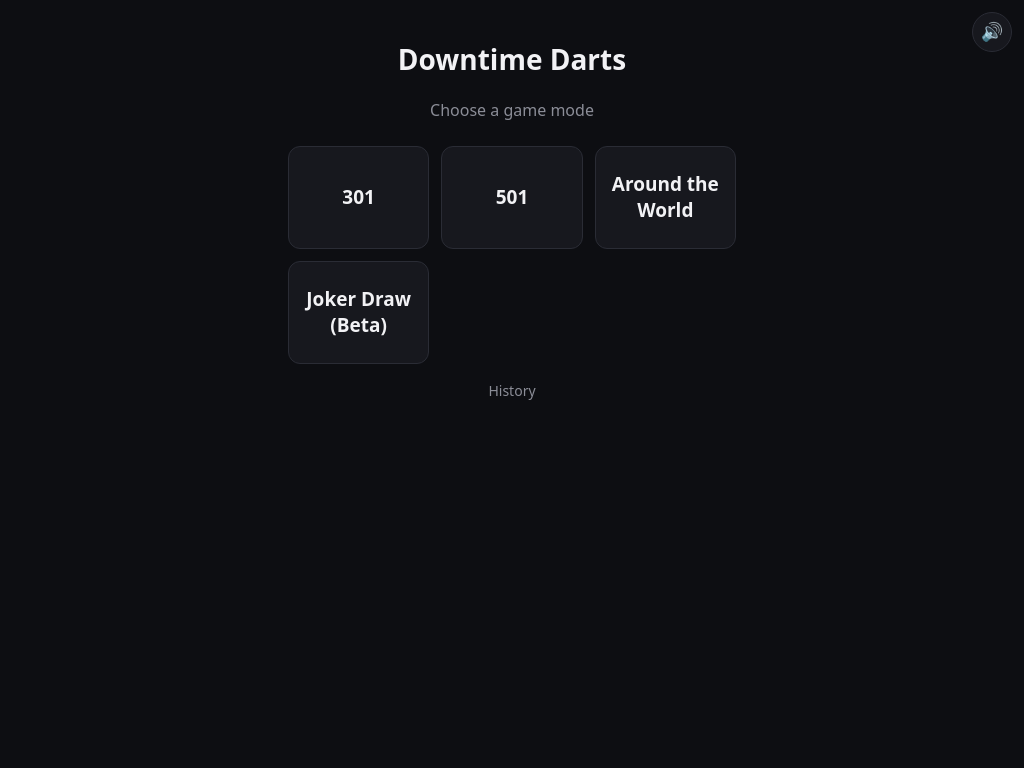
Test: mode select & player setup › lets you go back to mode select if you picked the wrong mode, keeping your players
This screenshot has width=1024, height=768.
Step 1. Click the button "501" → click(512, 197), box [441, 146, 583, 249]
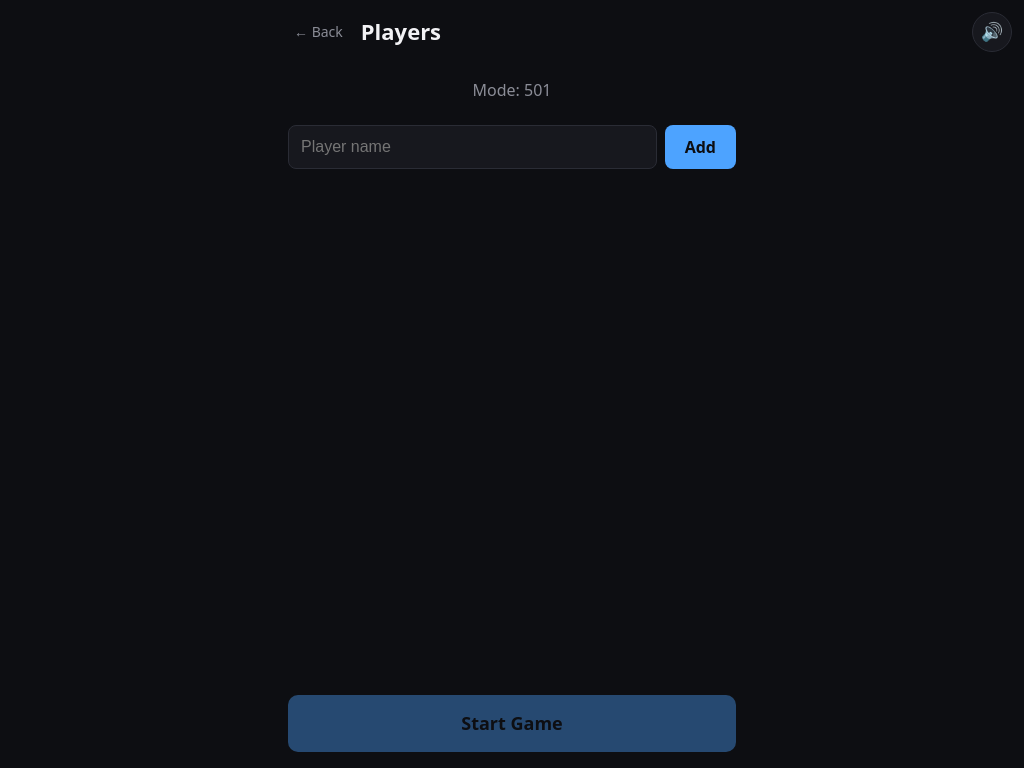
Step 2. Type "Hunter" into the field with placeholder "Player name" → (472, 147), box [288, 125, 657, 169]
Then press Enter
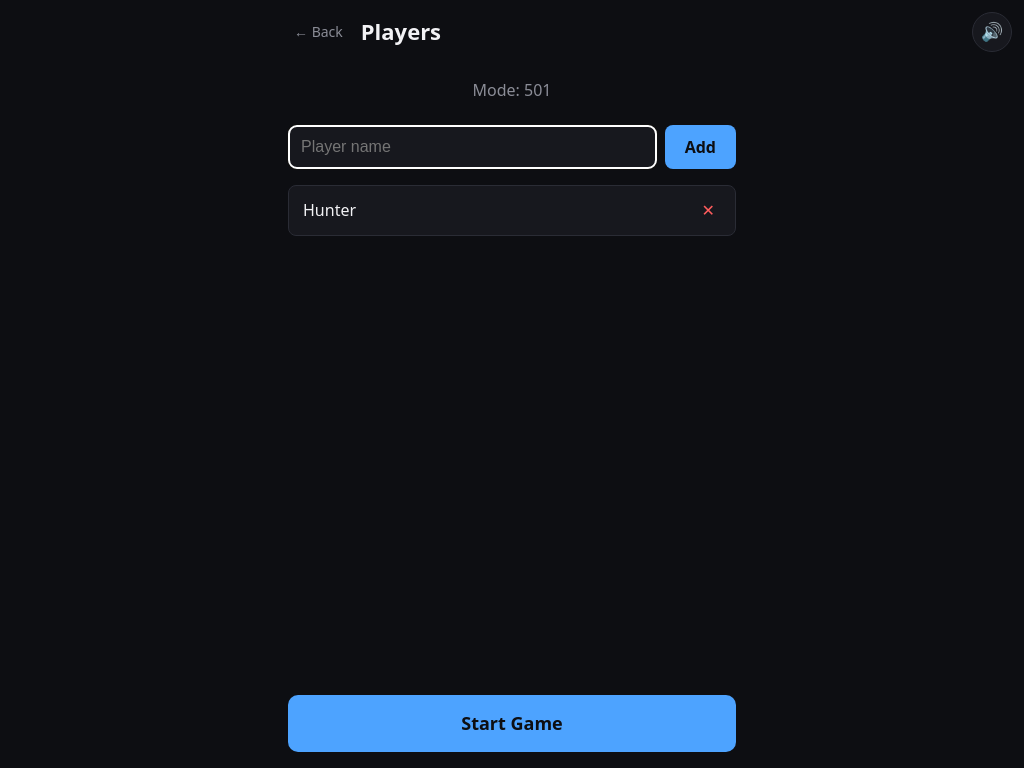
Step 3. Click the button "← Back" → click(318, 31), box [288, 21, 349, 42]
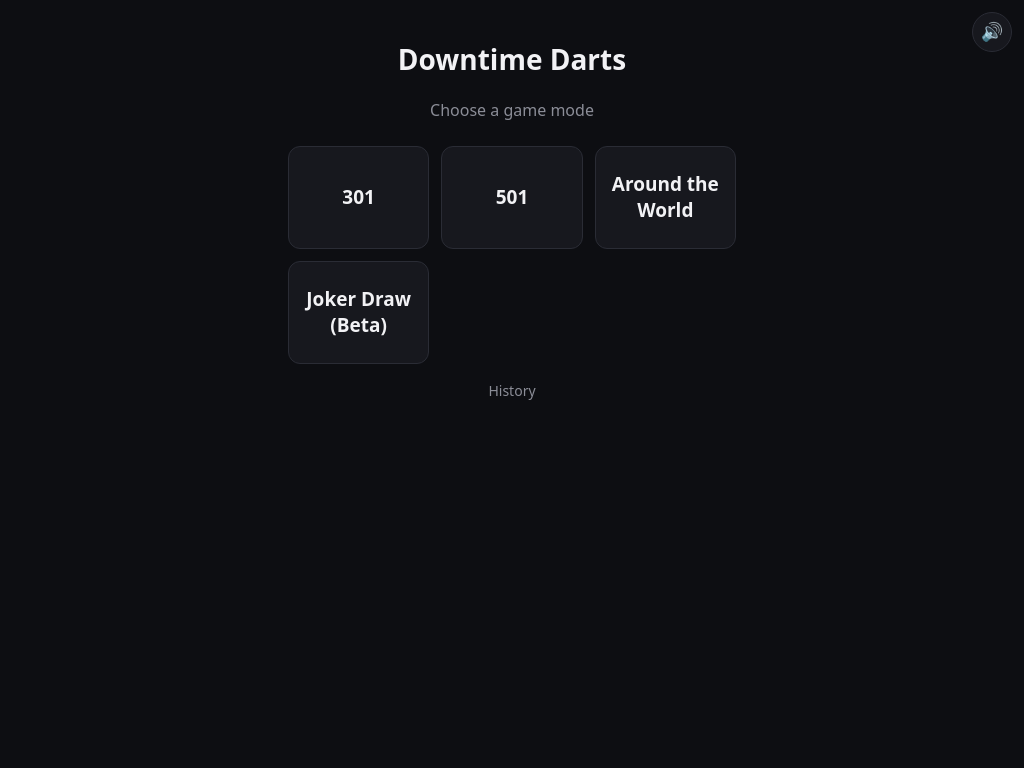
Result: the text "Choose a game mode" is shown at [430, 99, 594, 121]
Step 4. Click the button "Around the World" → click(665, 197), box [595, 146, 736, 249]
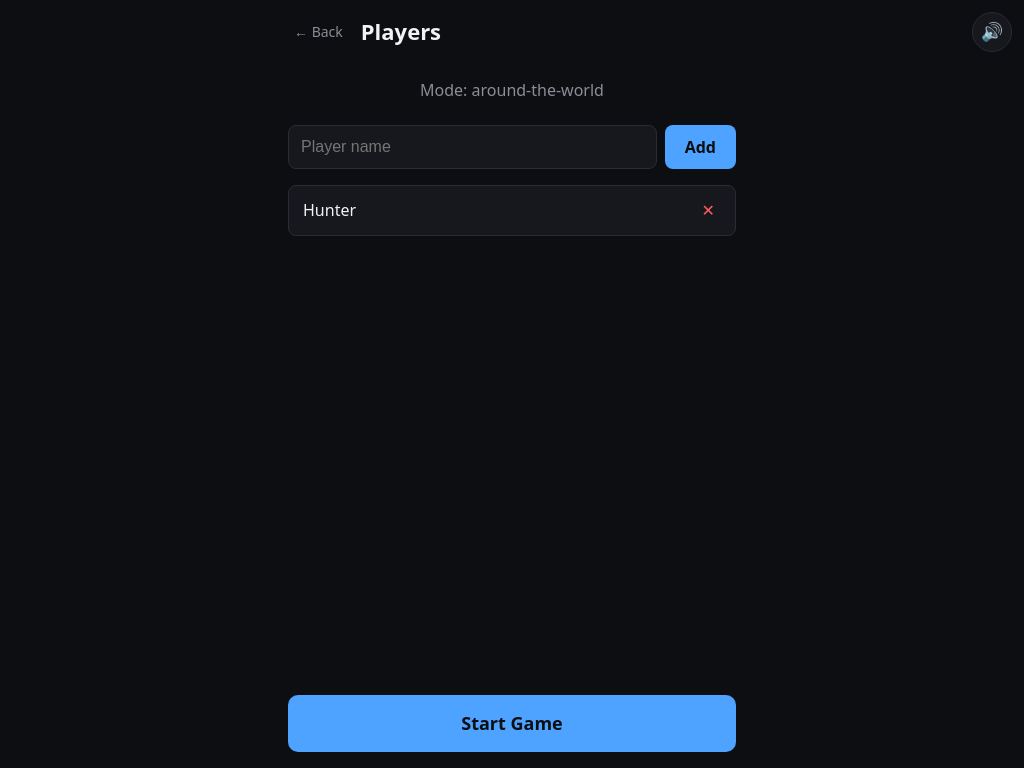
Result: the text "Mode: around-the-world" is shown at [420, 79, 604, 101]
Result: the text "Hunter" is shown at [303, 199, 356, 222]
